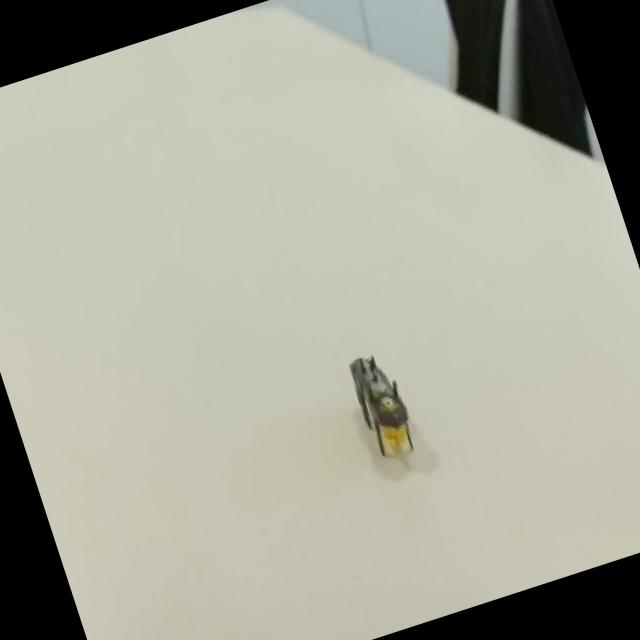6_NanoBug_GrisOscuro: (294, 320, 455, 510)
